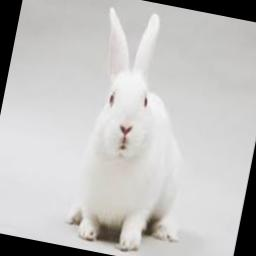rabbit: (67, 7, 181, 250)
